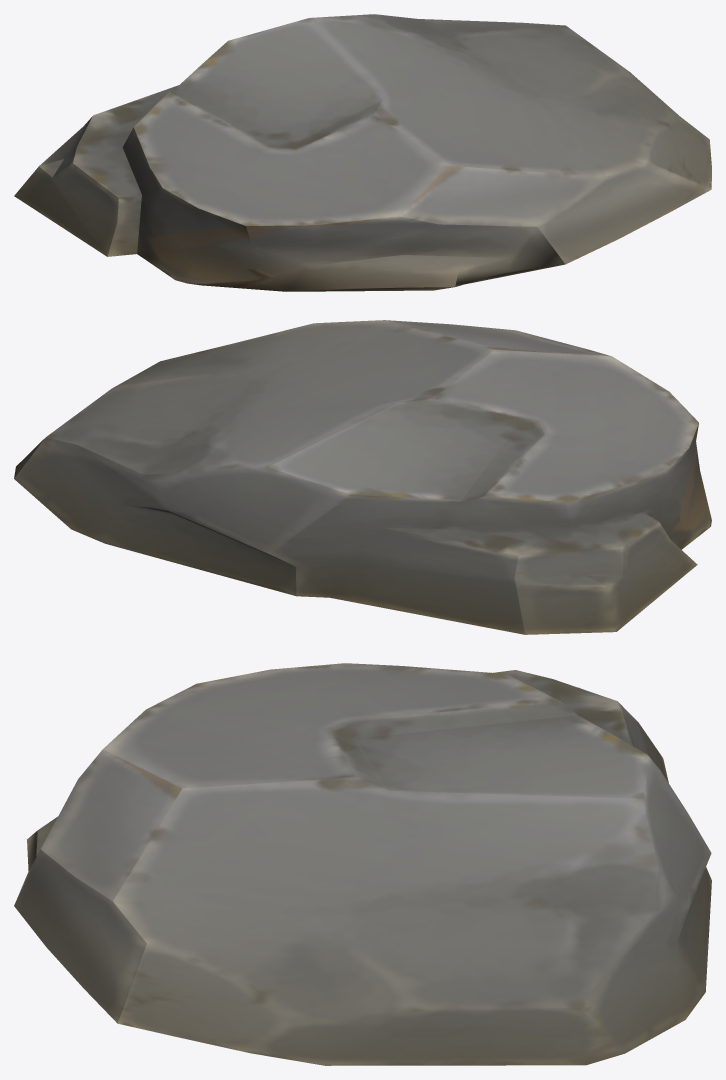
File: arenito.glb
3 views of the same model, one above another, from view 1: azimuth 30°, elevation 25°; view 2: azimuth 150°, elevation 25°; view 3: azimuth 270°, elevation 25° (orthographic). The views are drawn at different scales.
Bounding box in the file's own units: 4.57 × 0.7216 × 3.72.
Materials: 1 (1 with a texture image).
